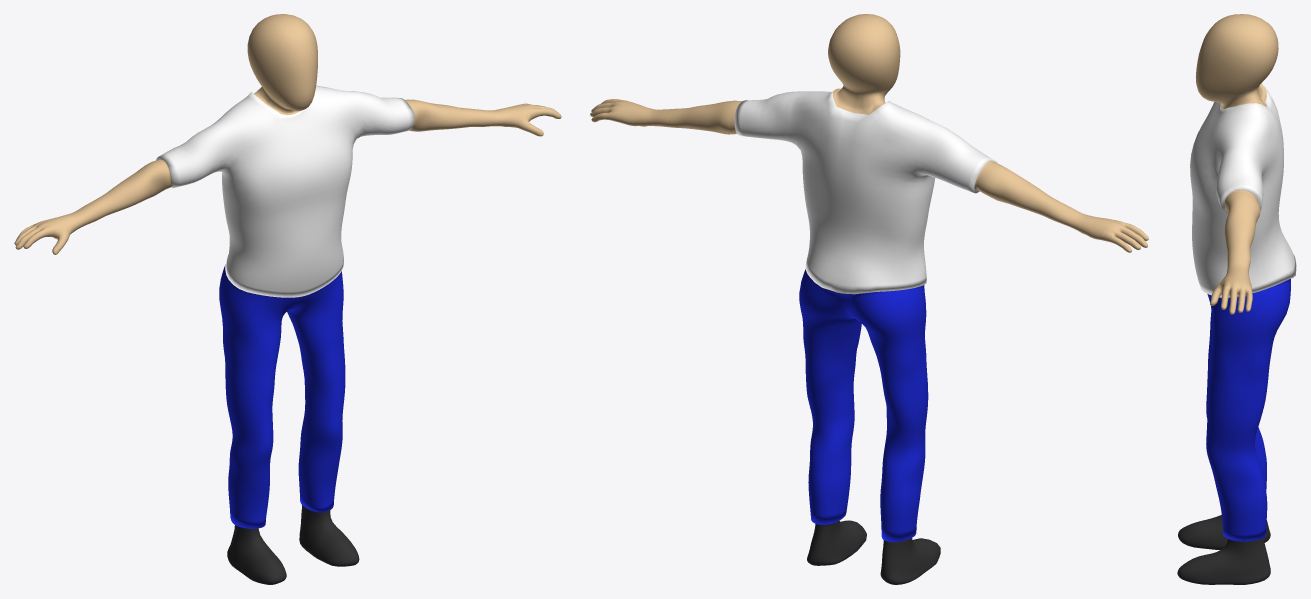
Rendered from Remi Idle.fbx.
3 views of the same model, side by side, from view 1: azimuth 30°, elevation 25°; view 2: azimuth 150°, elevation 25°; view 3: azimuth 270°, elevation 25° (orthographic). The views are drawn at different scales.
Parts seen in each view (by area): view 1: Player.001; view 2: Player.001; view 3: Player.001.
Boxes of the visible parts, <box> form: Player.001: <box>14,14,561,584</box>; Player.001: <box>590,14,1148,584</box>; Player.001: <box>1177,14,1296,584</box>.
Bounding box in the file's own units: 647 × 610 × 121.
